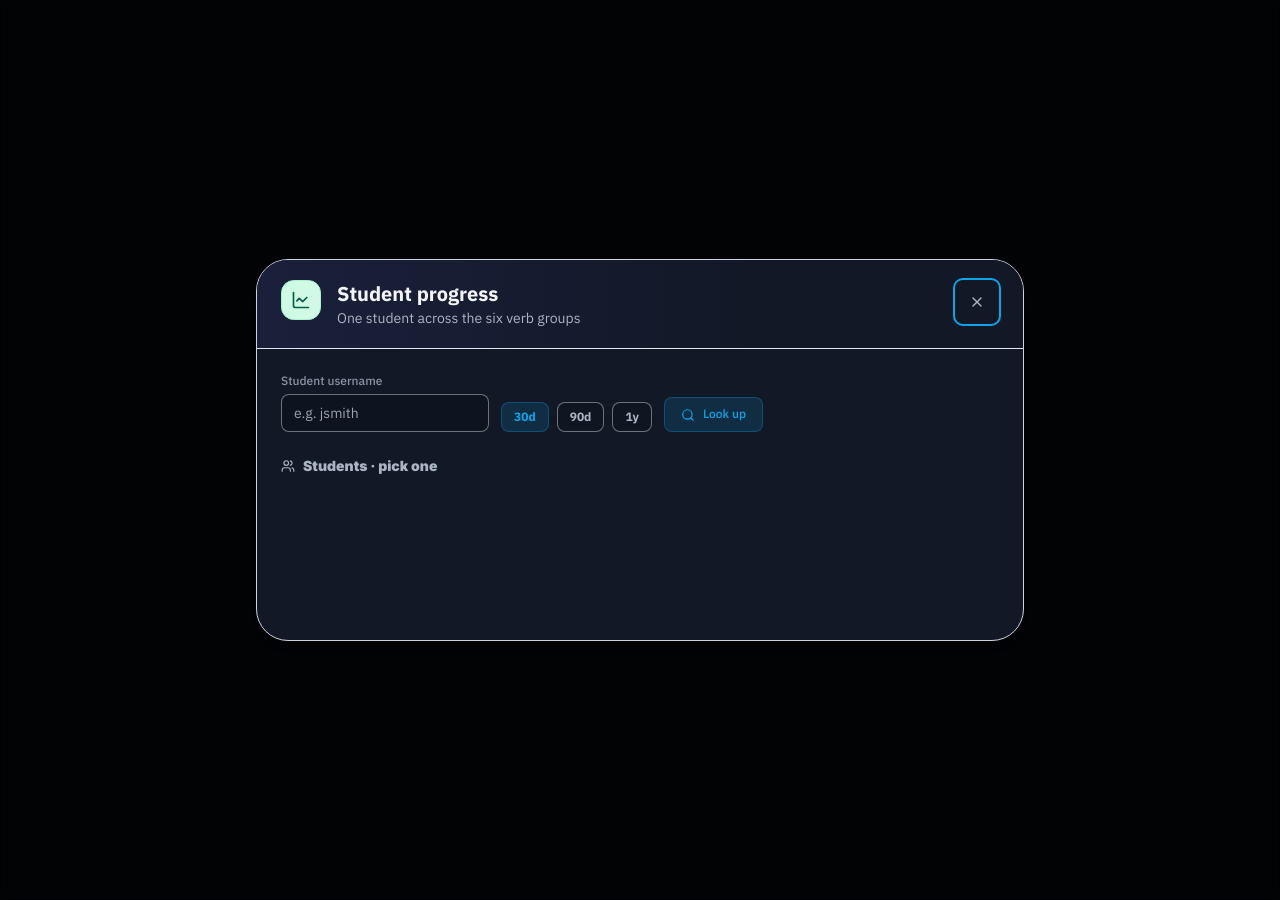
it: Student Progress — the newest lookup wins › ignores a superseded lookup that arrives last
Step 1. Type "demo.aisha" into the field with placeholder "e.g. jsmith" → (385, 413), box [281, 394, 489, 432]
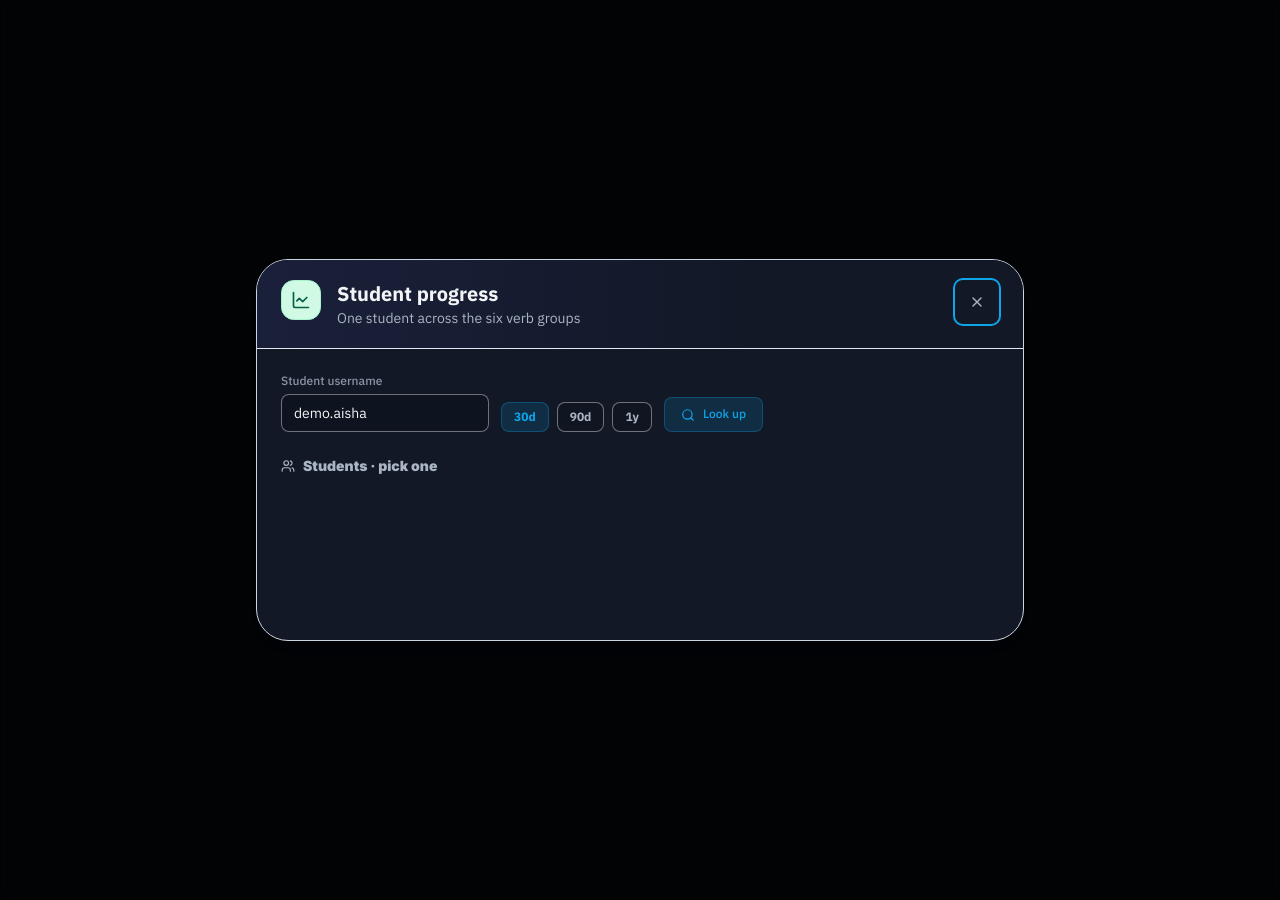
Step 2. Press Enter in the field with placeholder "e.g. jsmith", box [281, 394, 489, 432]
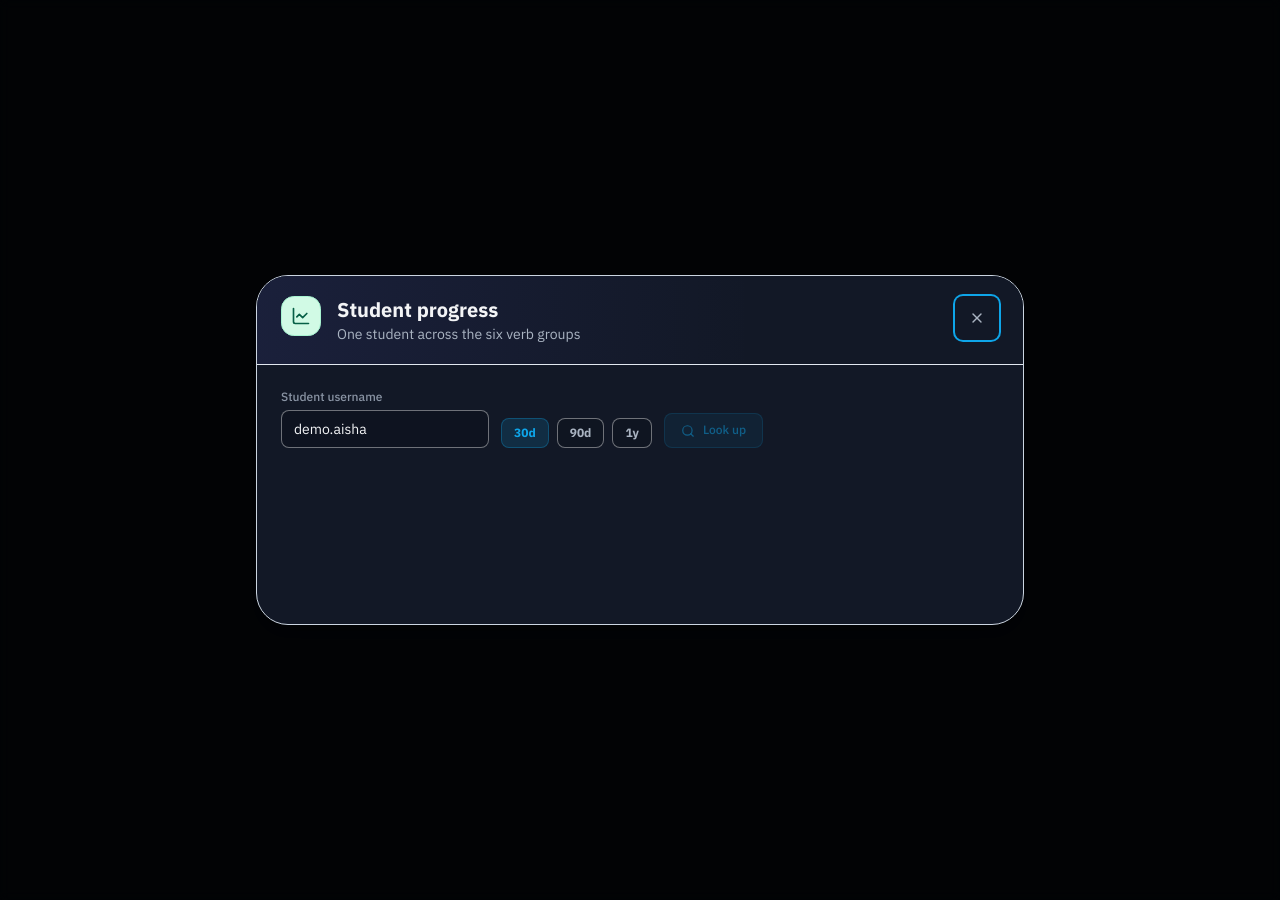
Step 3. Replace the text in the field with placeholder "e.g. jsmith" with "demo.jayden" → (385, 429), box [281, 410, 489, 448]
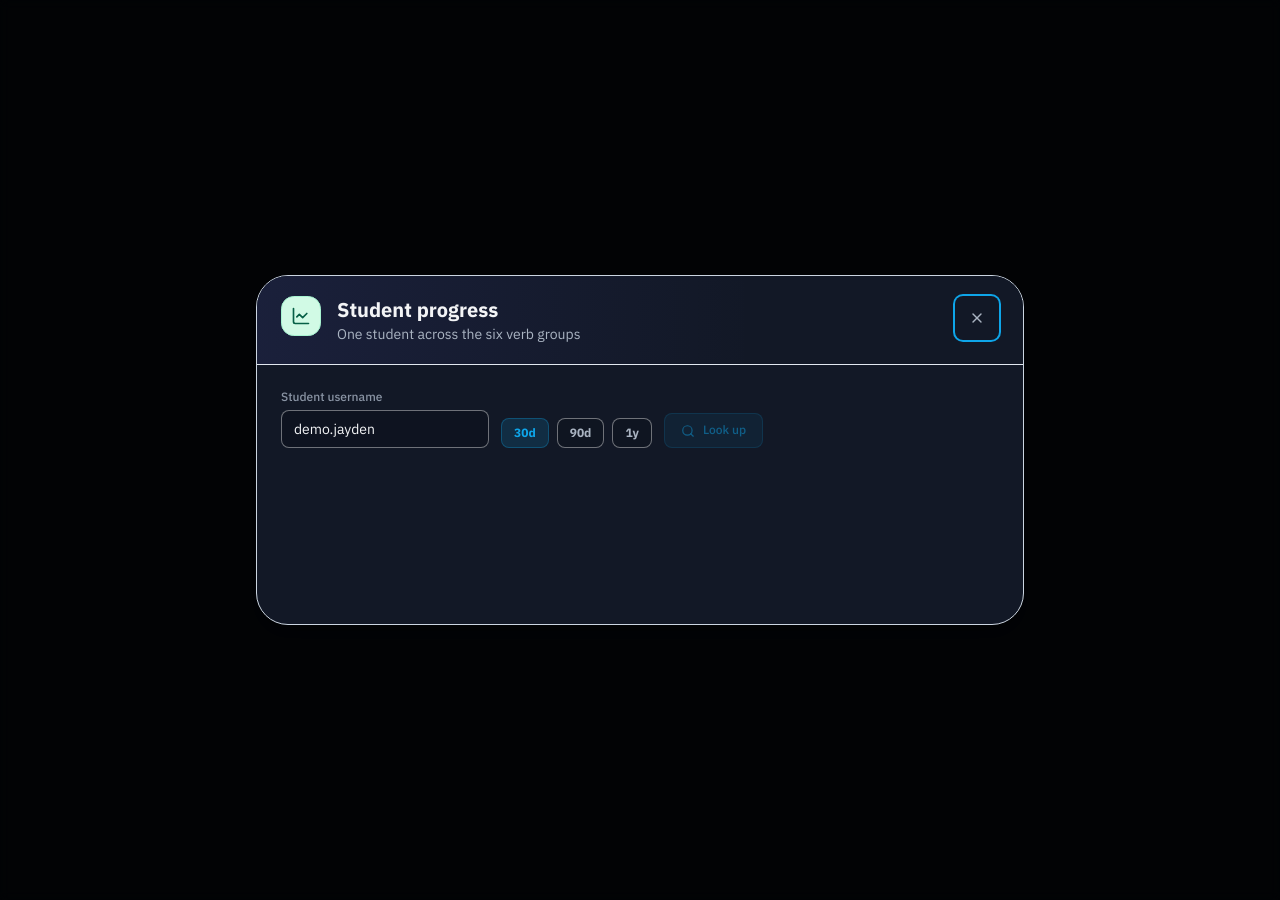
Step 4. Press Enter in the field with placeholder "e.g. jsmith", box [281, 410, 489, 448]
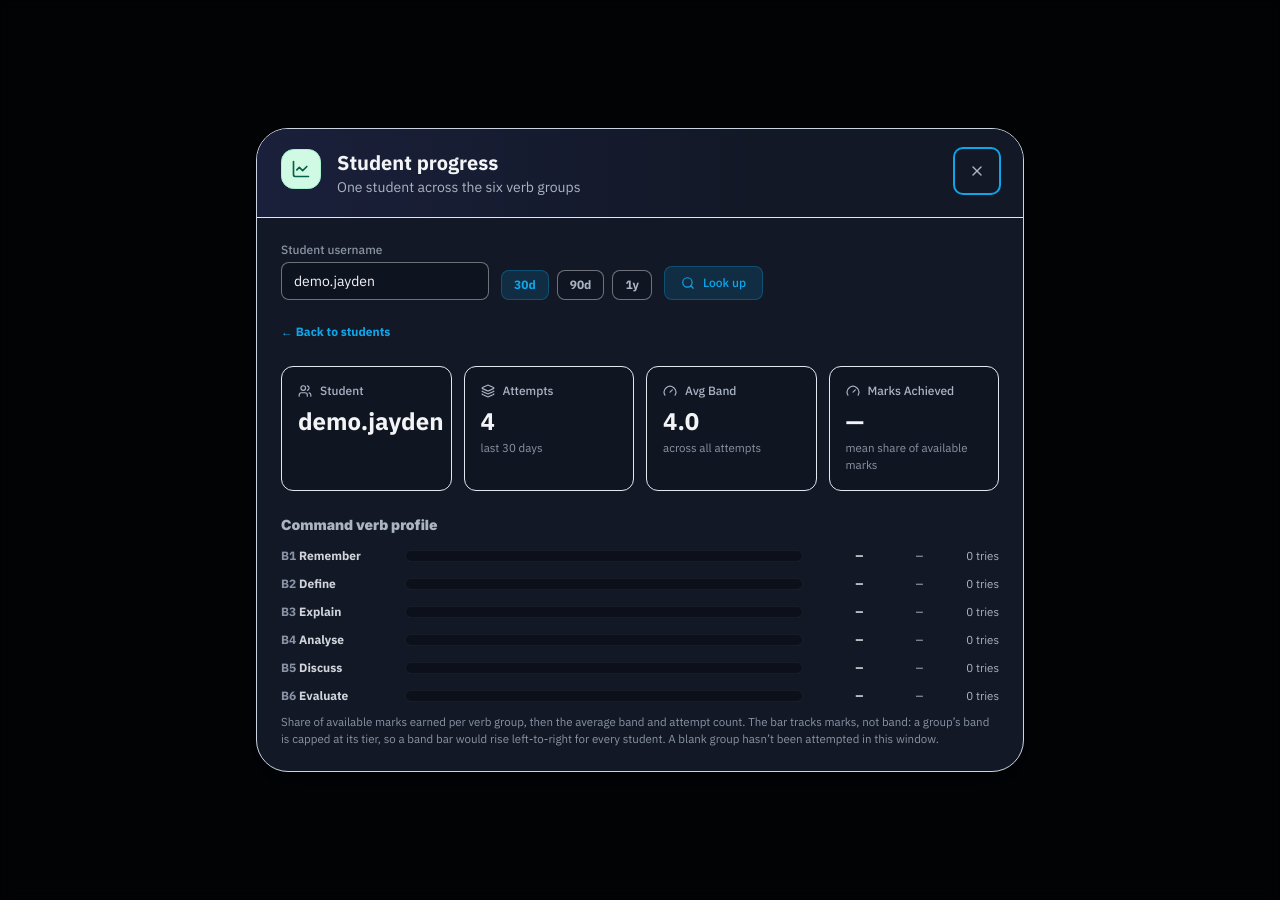
Expected: the text "demo.aisha" is not shown
Now the text "demo.jayden" is shown, box [298, 405, 434, 437]
